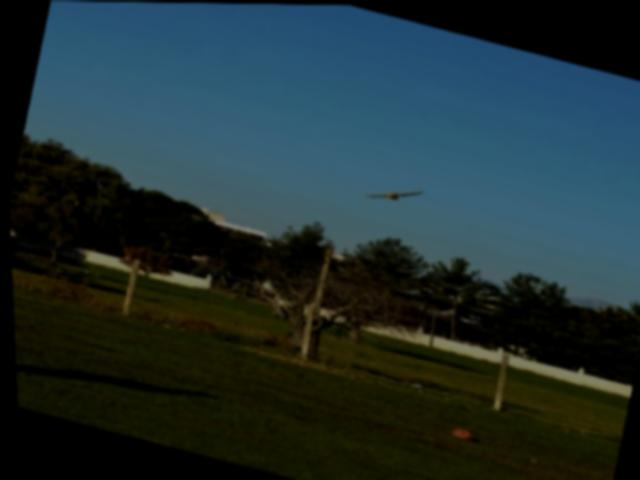iha: (364, 179, 421, 209)
